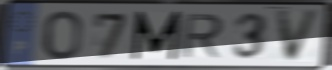3: (231, 11, 269, 61)
7: (92, 11, 129, 60)
M: (130, 10, 183, 62)
O: (41, 9, 83, 62)
R: (178, 12, 225, 59)
V: (275, 9, 322, 64)
